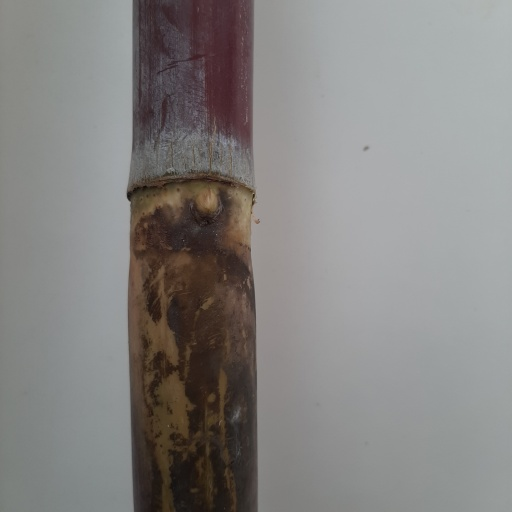Bud: (191, 183, 222, 222)
